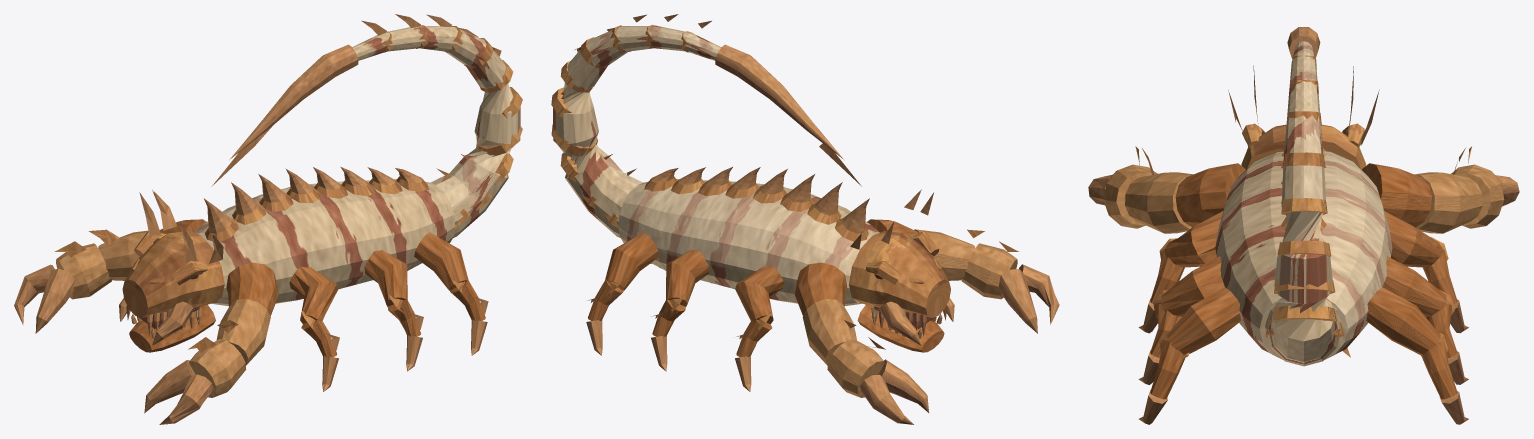
File: serracorion-v02-espinhos-integrados.glb
3 views of the same model, side by side, from view 1: azimuth 30°, elevation 25°; view 2: azimuth 150°, elevation 25°; view 3: azimuth 270°, elevation 25° (orthographic). The views are drawn at different scales.
Parts seen in each view (by area): view 1: Serracorion_v02_Dorsal_Spines_Integrated; view 2: Serracorion_v02_Dorsal_Spines_Integrated; view 3: Serracorion_v02_Dorsal_Spines_Integrated.
Part boxes in pixels (x1,y1,x2,y2): Serracorion_v02_Dorsal_Spines_Integrated: (14,14,522,424); Serracorion_v02_Dorsal_Spines_Integrated: (551,14,1059,424); Serracorion_v02_Dorsal_Spines_Integrated: (1088,27,1519,424).
Size of the model in its own units: 14.83 by 9.86 by 10.22.
Materials: 1 (1 with a texture image).
